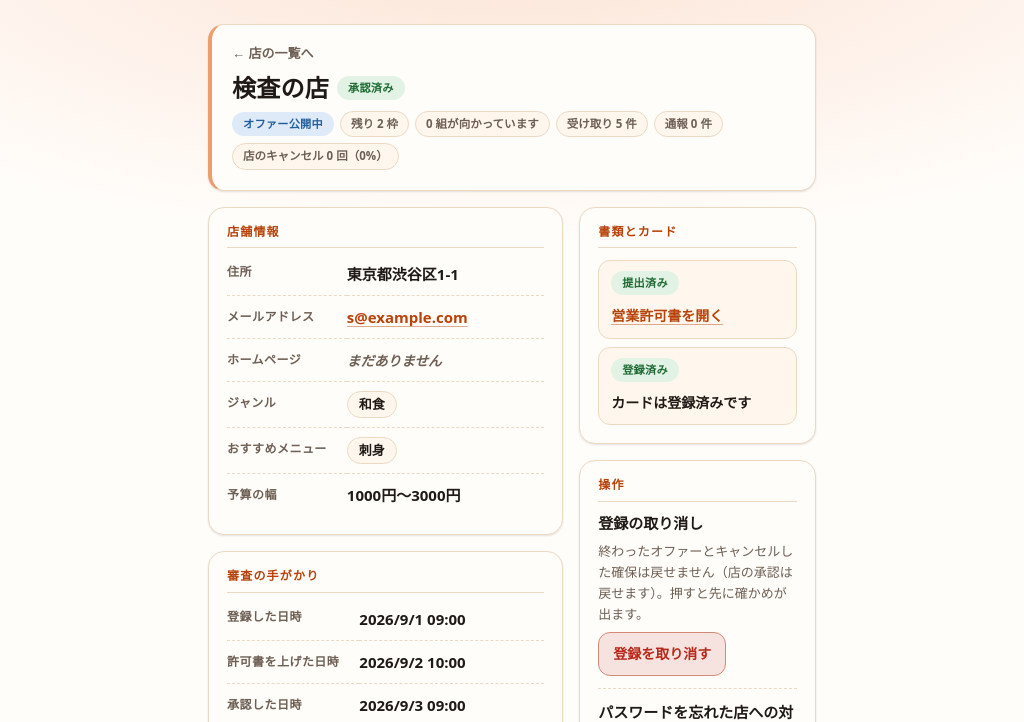
Test: 状況が先に変わっていたとき（運営-04）と、断りの出し場所（運営-13） › 409 の今の状況を受けたら「ほかの操作で、すでに『登録取り消し済み』になっていました」と出し、詳細を取り直す
Click the button with test id "btn-ban": (662, 654) x1=598 y1=632 x2=726 y2=676
(page scrolled)
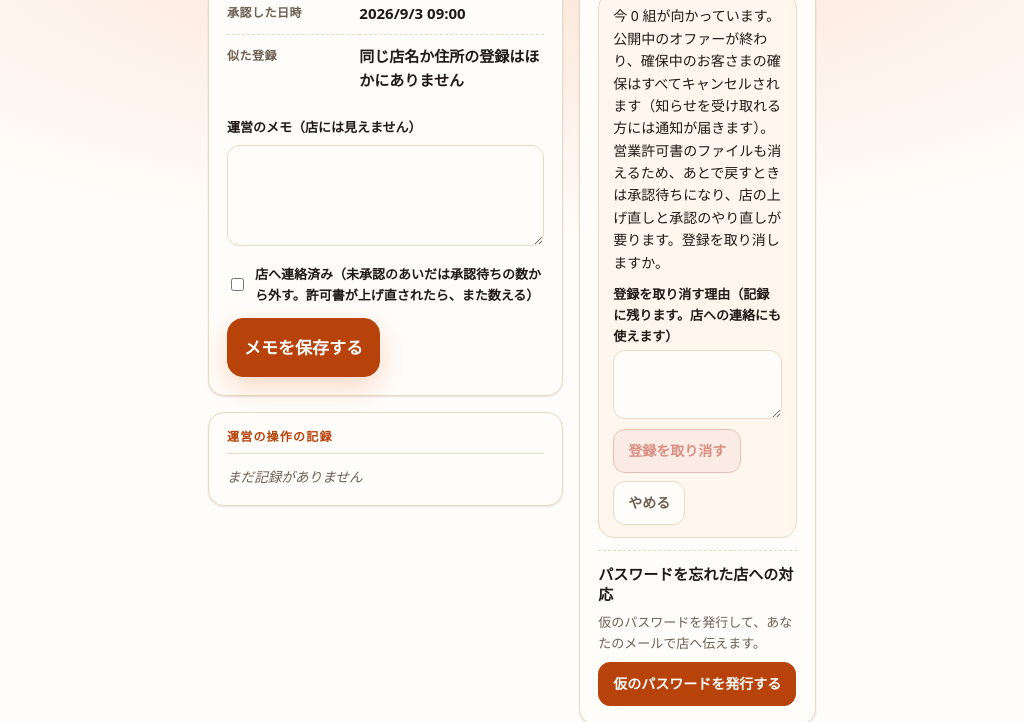
In the text box with test id "field-reason": (698, 385) x1=613 y1=350 x2=782 y2=419, type "x"
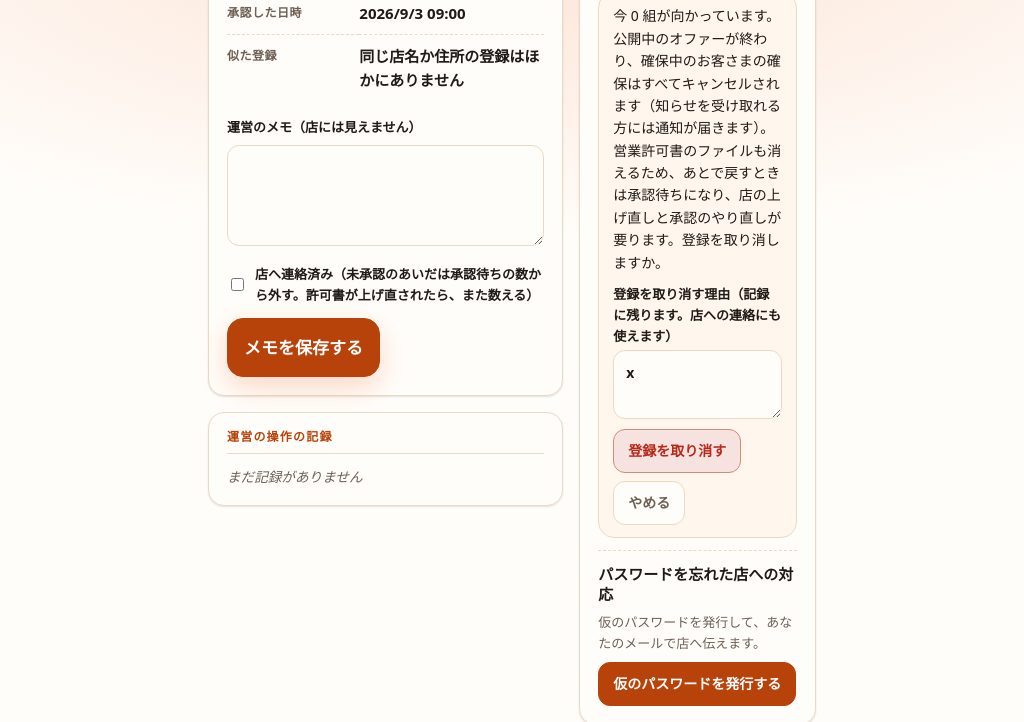
Click the button with test id "btn-confirm": (677, 451) x1=613 y1=429 x2=741 y2=473
(page scrolled)
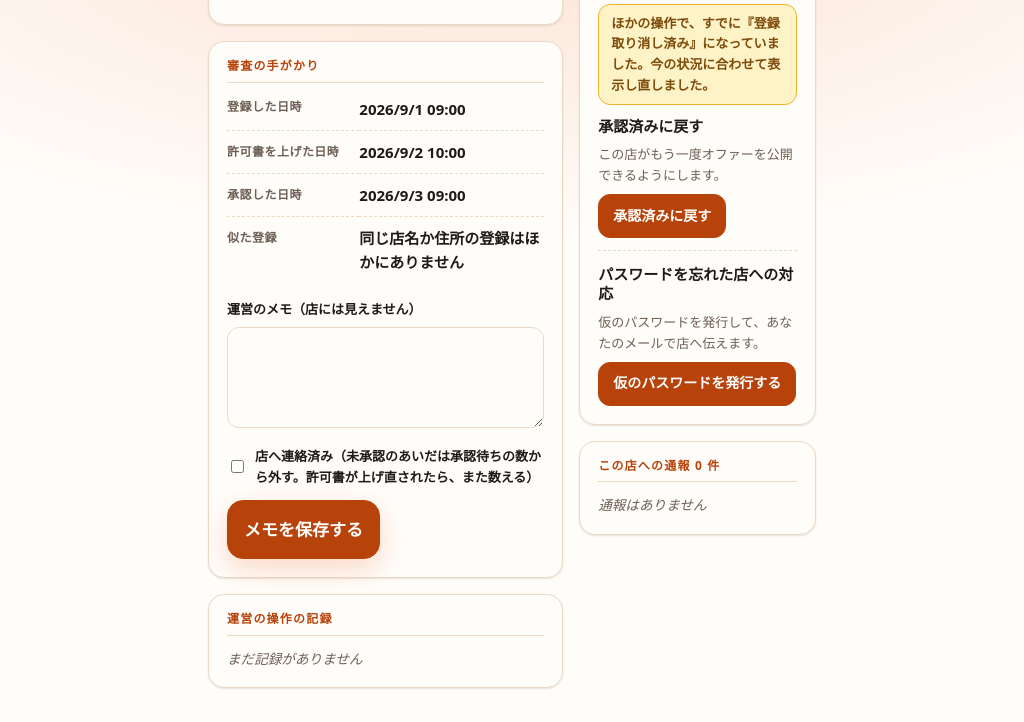
Now the message with test id "state-conflict" shows "ほかの操作で、すでに『登録取り消し済み』になっていました", box x1=611 y1=14 x2=780 y2=94
Now the element with test id "form-restore" is shown, box x1=598 y1=117 x2=797 y2=238
